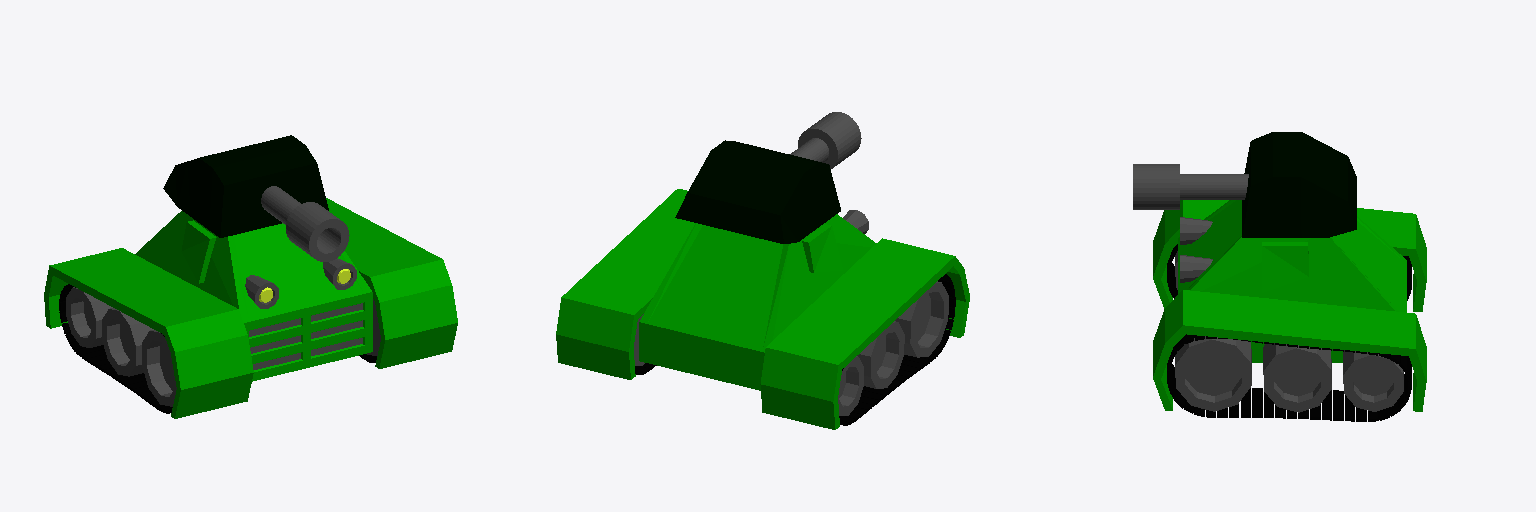
3 views of the same model, side by side, from view 1: azimuth 30°, elevation 25°; view 2: azimuth 150°, elevation 25°; view 3: azimuth 270°, elevation 25° (orthographic).
Size of the model in its own units: 4.23 by 2.97 by 3.87.
7 materials, 3 textured.